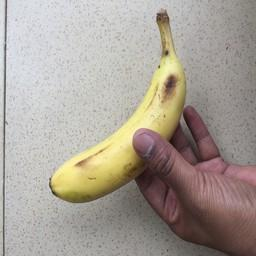Banana Ripe: (45, 10, 221, 248)
